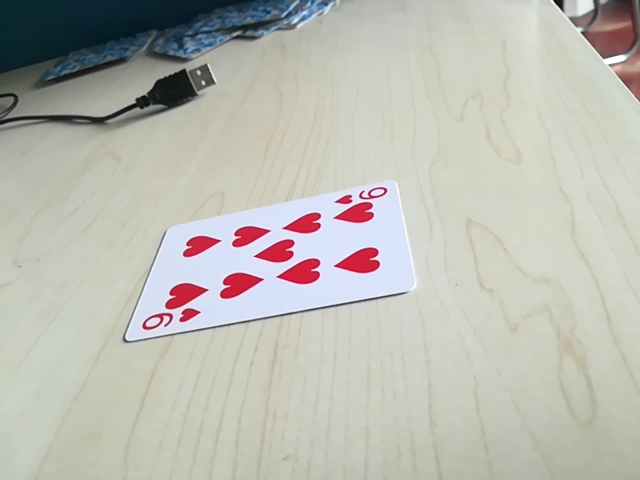hx 9: (137, 308, 205, 336), (336, 184, 393, 207)
